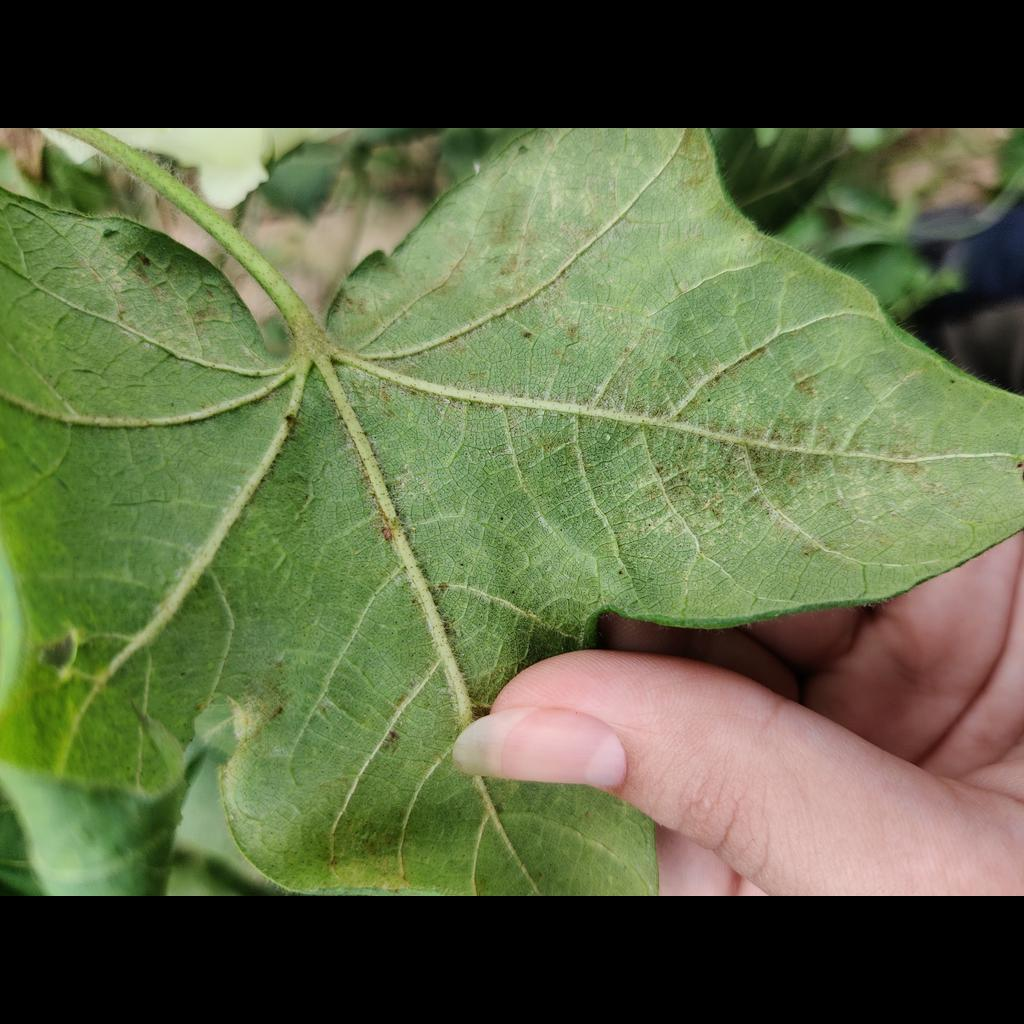nymph: (473, 163, 481, 175)
